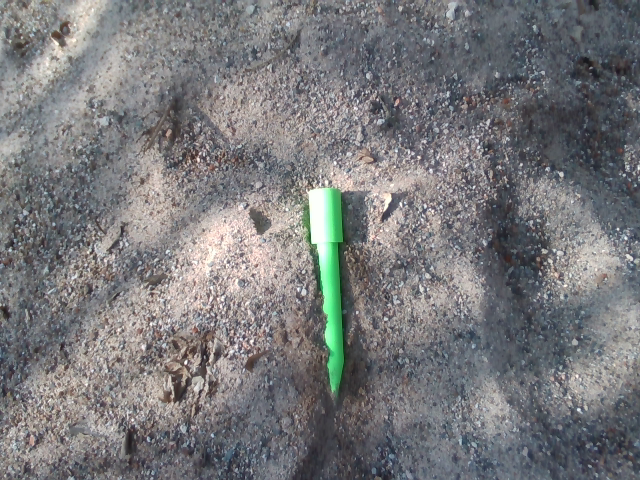Probe: (293, 175, 358, 418)
